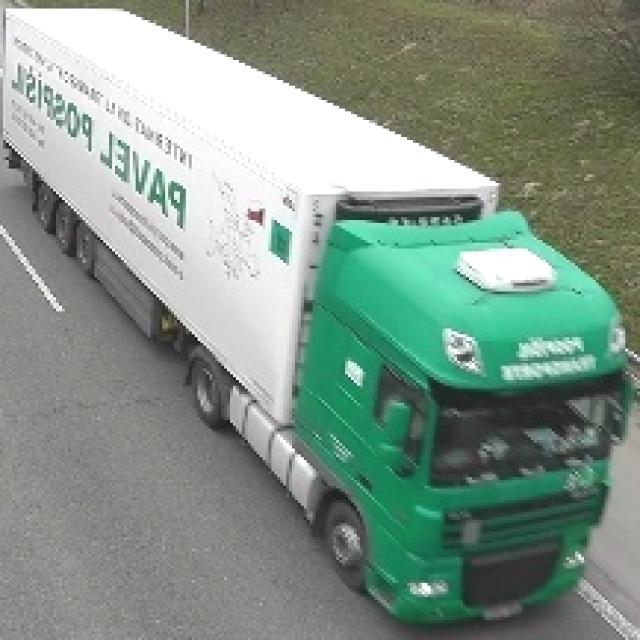TRUCK: (3, 10, 613, 627)
